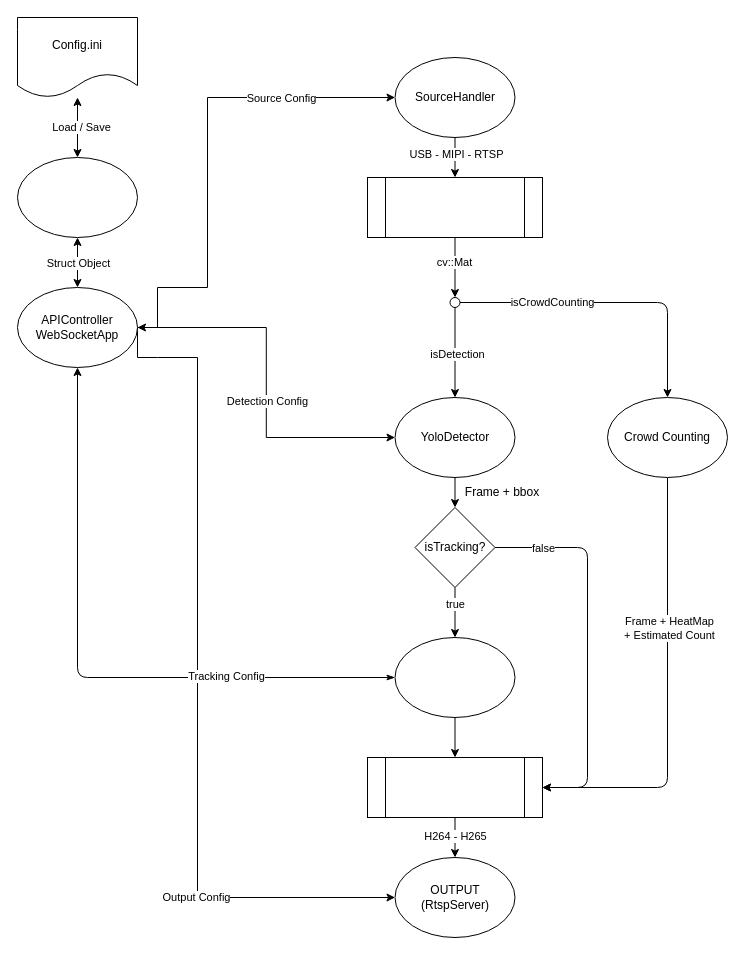
Some shapes in this 745 by 955 pixel diagram are drawn without their labels. The box of each missing label's shape, as (x1, y1, x2, y2) in pixels:
Config Manager: (16, 156, 138, 238)
ObjectTracker: (394, 636, 515, 718)
POSTPROCESSING (Encode): (366, 756, 542, 818)
PREPROCESSING (Decode & Rezise): (366, 176, 542, 238)
